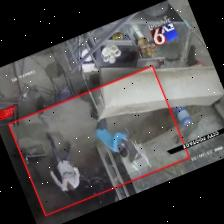person: (45, 133, 78, 198), (94, 118, 130, 157)
